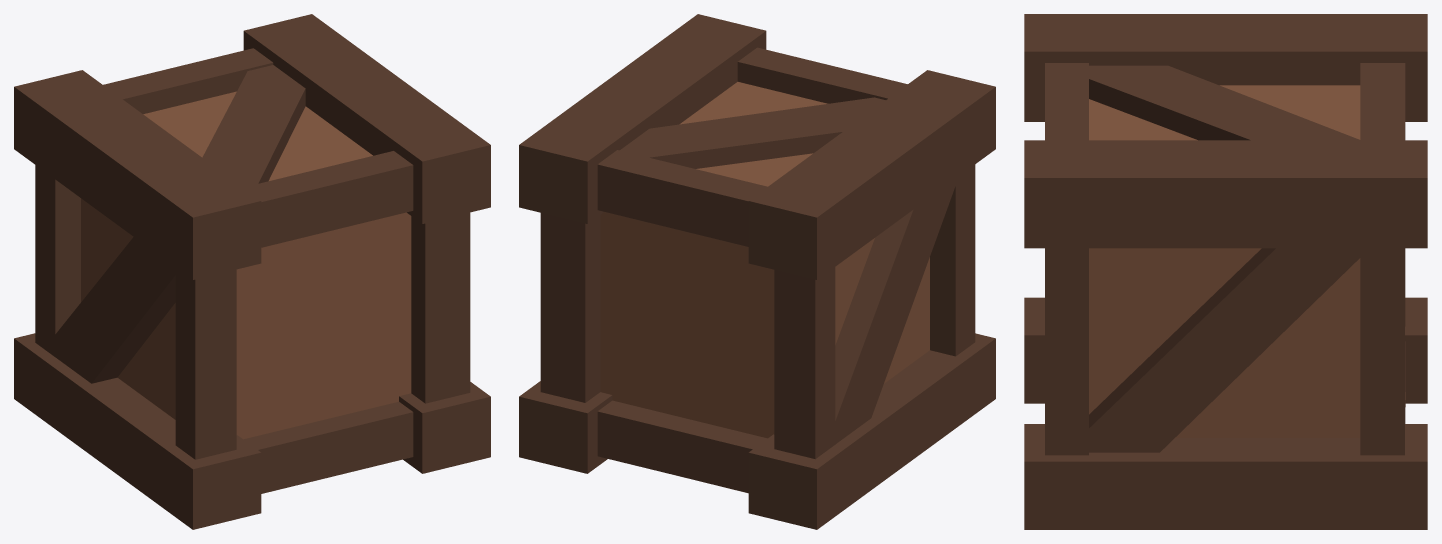
File: Woodbox_01.fbx
3 renders of one model, left to right at view 1: azimuth 30°, elevation 25°; view 2: azimuth 150°, elevation 25°; view 3: azimuth 270°, elevation 25°, orthographic. The views are drawn at different scales.
Parts seen in each view (by area): view 1: Woodbox_01; view 2: Woodbox_01; view 3: Woodbox_01.
Boxes of the visible parts, x1=… form: Woodbox_01: x1=14, y1=14, x2=490, y2=529; Woodbox_01: x1=519, y1=14, x2=995, y2=529; Woodbox_01: x1=1024, y1=14, x2=1427, y2=529.
Bounding box in the file's own units: 64.38 × 64.49 × 66.94.
